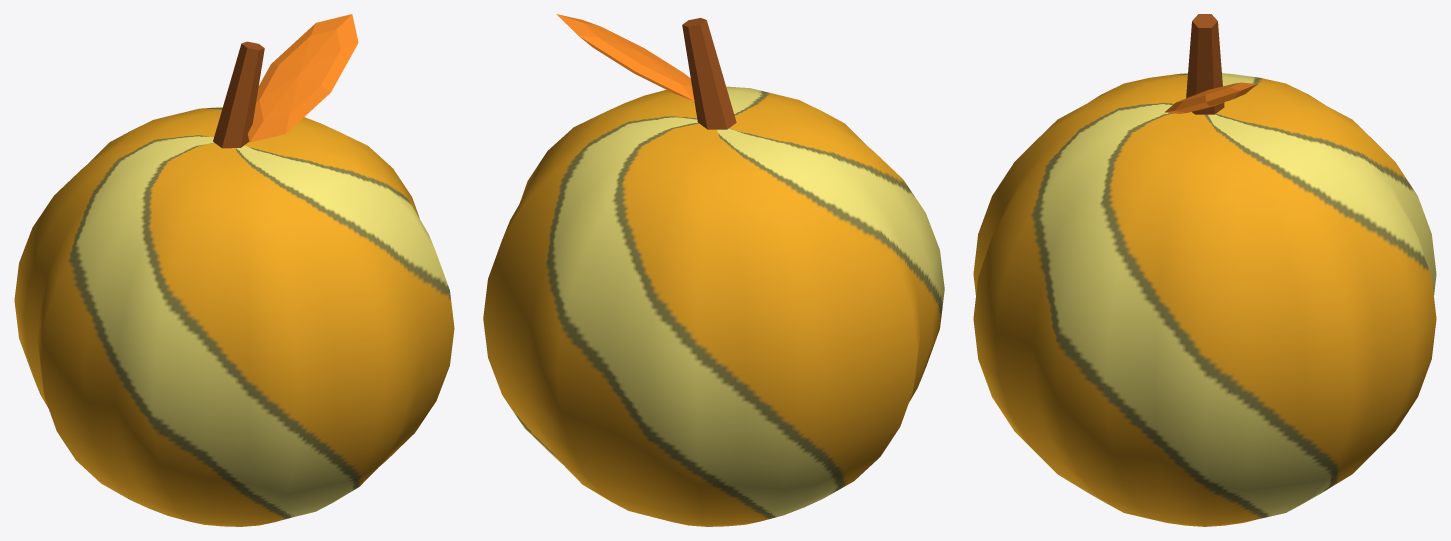
File: Fruit_Solar.fbx
The picture shows the model from 3 angles, left to right: view 1: azimuth 30°, elevation 25°; view 2: azimuth 150°, elevation 25°; view 3: azimuth 270°, elevation 25°; orthographic projection. The views are drawn at different scales.
Parts seen in each view (by area): view 1: Fruit_Solar; view 2: Fruit_Solar; view 3: Fruit_Solar.
Boxes of the visible parts, bbox=[...] form: Fruit_Solar: bbox=[14, 14, 454, 526]; Fruit_Solar: bbox=[483, 14, 944, 526]; Fruit_Solar: bbox=[973, 14, 1436, 526].
Bounding box in the file's own units: 1.68 × 1.9 × 1.61.
Materials: 1 (1 with a texture image).
